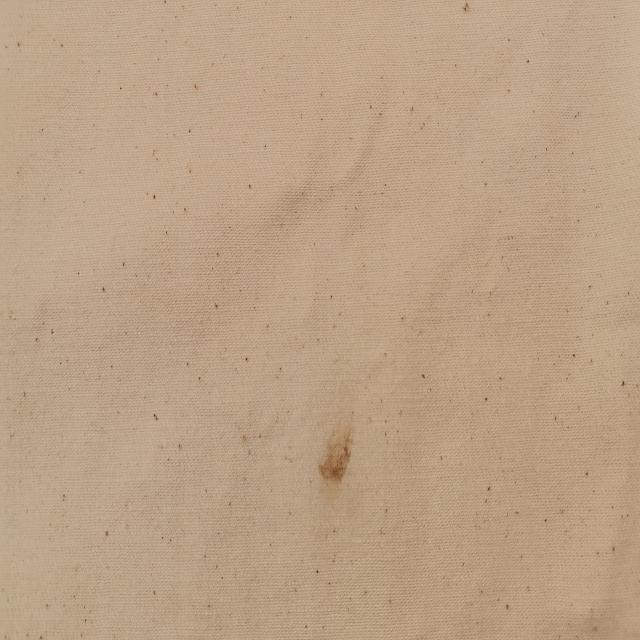taaaches: (316, 417, 358, 501)
